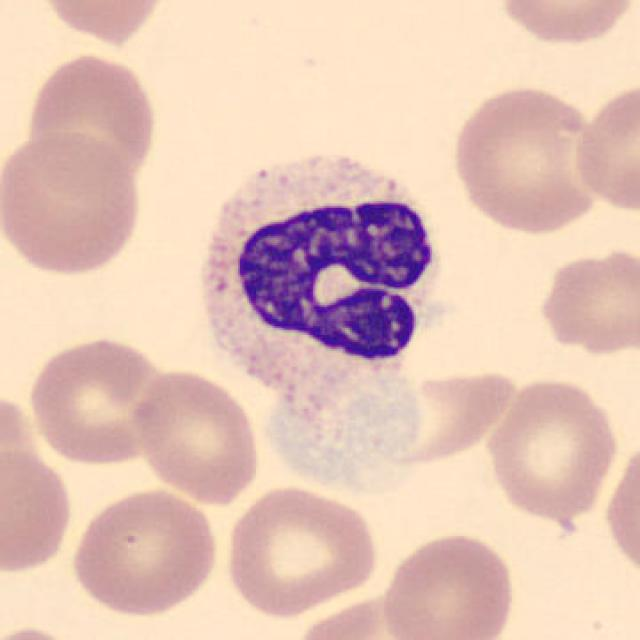Neutrophil: (187, 139, 455, 409)
RBC: (261, 344, 432, 499), (446, 81, 604, 236), (0, 127, 148, 279), (220, 481, 380, 621), (482, 372, 620, 524), (68, 485, 222, 619), (21, 48, 162, 192), (25, 332, 174, 468), (347, 362, 522, 472), (130, 365, 265, 506), (379, 529, 519, 640), (535, 243, 638, 360), (0, 442, 76, 574), (569, 78, 640, 215), (287, 590, 453, 640), (494, 0, 638, 49), (32, 0, 172, 48), (601, 436, 640, 587), (0, 622, 91, 640)
